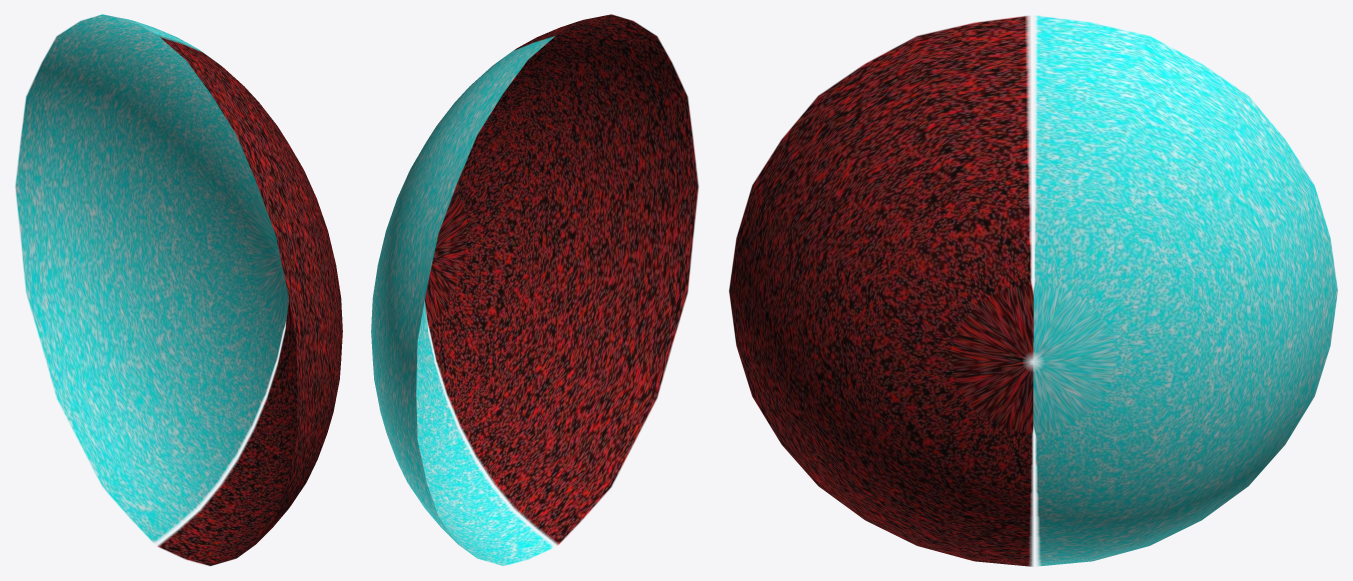
3 views of the same model, side by side, from view 1: azimuth 30°, elevation 25°; view 2: azimuth 150°, elevation 25°; view 3: azimuth 270°, elevation 25° (orthographic). The views are drawn at different scales.
Parts seen in each view (by area): view 1: SM_VFX_Shockwave_Round_576_LOD0; view 2: SM_VFX_Shockwave_Round_576_LOD0; view 3: SM_VFX_Shockwave_Round_576_LOD0.
Part boxes in pixels (<box>): SM_VFX_Shockwave_Round_576_LOD0: <box>15,14,342,565</box>; SM_VFX_Shockwave_Round_576_LOD0: <box>371,14,698,565</box>; SM_VFX_Shockwave_Round_576_LOD0: <box>729,15,1337,566</box>.
Bounding box in the file's own units: 0.5368 × 1.93 × 1.93.
Materials: 1 (1 with a texture image).
